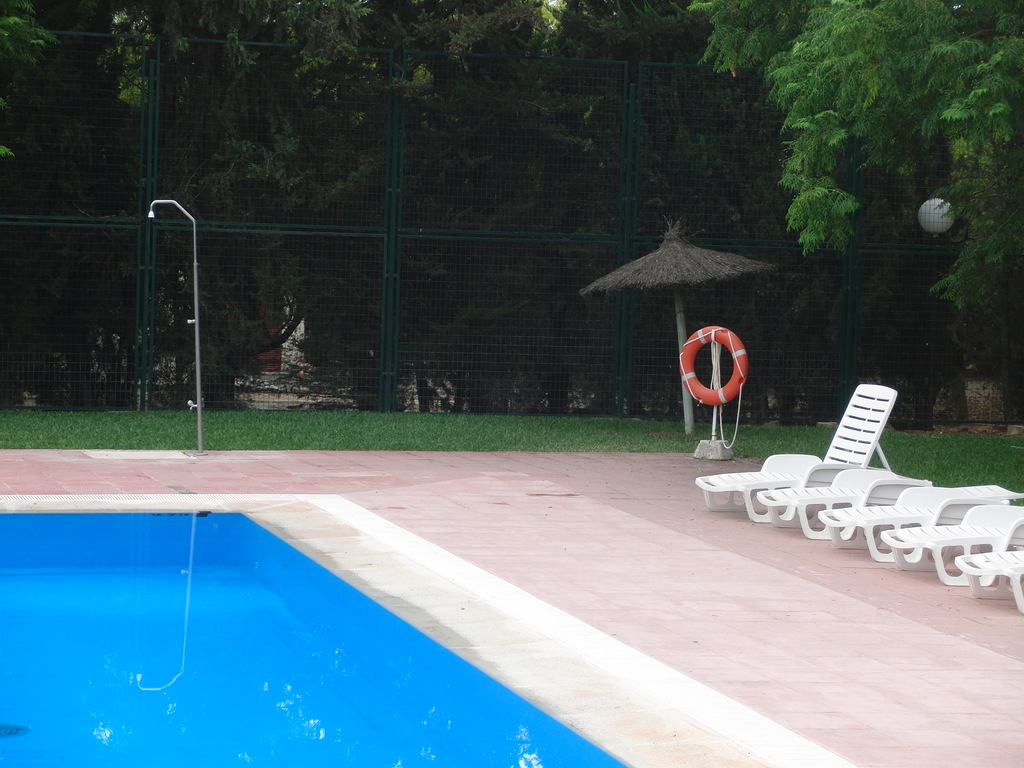Tree: (0, 0, 958, 410), (677, 0, 1023, 419)
